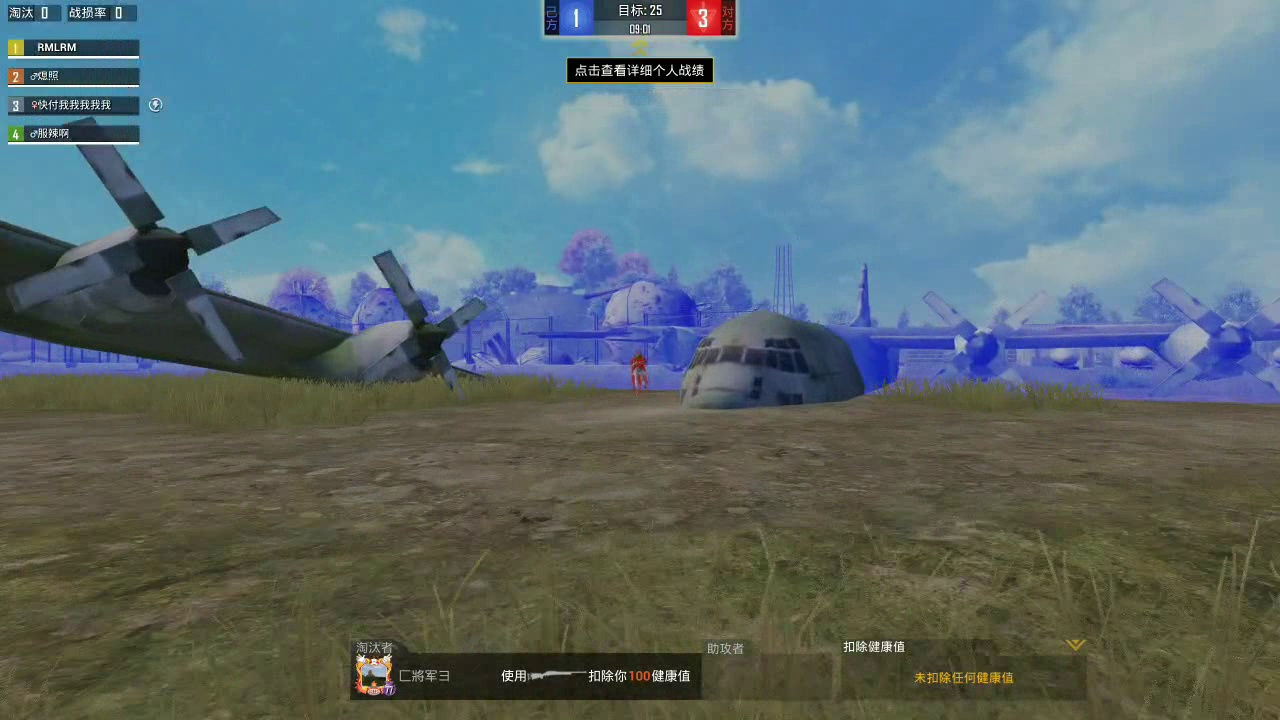enemy: (628, 347, 650, 394)
